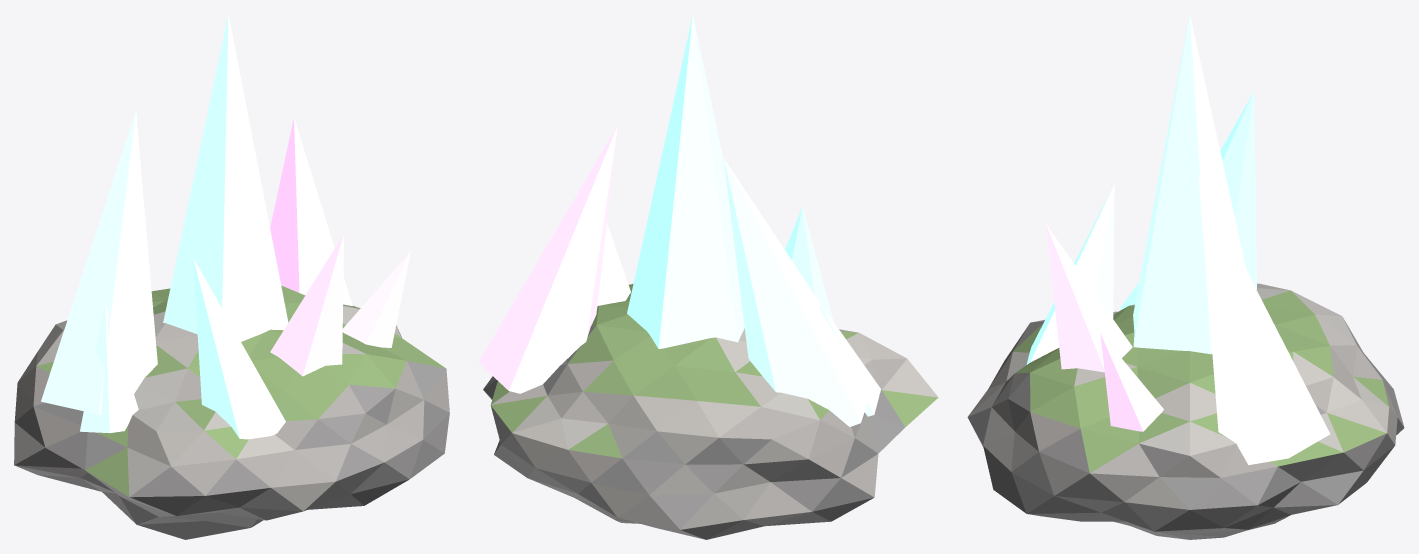
File: Crystals.glb
The picture shows the model from 3 angles, left to right: view 1: azimuth 30°, elevation 25°; view 2: azimuth 150°, elevation 25°; view 3: azimuth 270°, elevation 25°; orthographic projection. The views are drawn at different scales.
Visible parts, largest first — view 1: Crystals_Rock, Crystals_Crystal, Crystals_Crystal.002, Crystals_Crystal.004, Crystals_Crystal.001, Crystals_Crystal.003, Crystals_Crystal.006, Crystals_Crystal.005; view 2: Crystals_Rock, Crystals_Crystal, Crystals_Crystal.002, Crystals_Crystal.001, Crystals_Crystal.004, Crystals_Crystal.005, Crystals_Crystal.006; view 3: Crystals_Rock, Crystals_Crystal, Crystals_Crystal.001, Crystals_Crystal.003, Crystals_Crystal.002, Crystals_Crystal.004, Crystals_Crystal.005.
Boxes of the visible parts, x1,y1,x2,y2 form: Crystals_Rock: (14,285,449,539); Crystals_Crystal: (163,14,288,341); Crystals_Crystal.002: (41,111,157,414); Crystals_Crystal.004: (193,257,285,439); Crystals_Crystal.001: (270,118,352,306); Crystals_Crystal.003: (270,234,343,376); Crystals_Crystal.006: (80,302,138,433); Crystals_Crystal.005: (342,251,410,347); Crystals_Rock: (483,283,938,539); Crystals_Crystal: (627,14,744,348); Crystals_Crystal.002: (723,158,873,426); Crystals_Crystal.001: (478,125,617,393); Crystals_Crystal.004: (785,207,833,321); Crystals_Crystal.005: (597,223,630,305); Crystals_Crystal.006: (820,304,880,416); Crystals_Rock: (967,283,1404,539); Crystals_Crystal: (1133,15,1246,354); Crystals_Crystal.001: (1198,177,1330,465); Crystals_Crystal.003: (1046,224,1132,372); Crystals_Crystal.002: (1220,91,1256,289); Crystals_Crystal.004: (1026,184,1114,364); Crystals_Crystal.005: (1100,333,1163,431).
Size of the model in its own units: 2.05 by 2.52 by 1.96.
